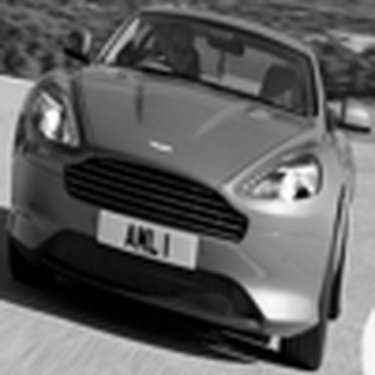car: (2, 18, 356, 358)
